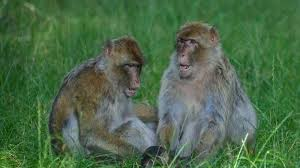monkey: (150, 2, 252, 142), (65, 14, 149, 167)
